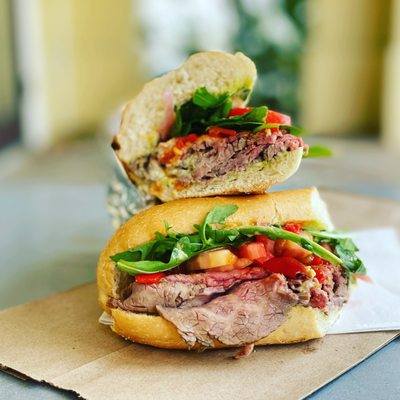soup: (95, 187, 361, 355), (109, 49, 307, 203)
